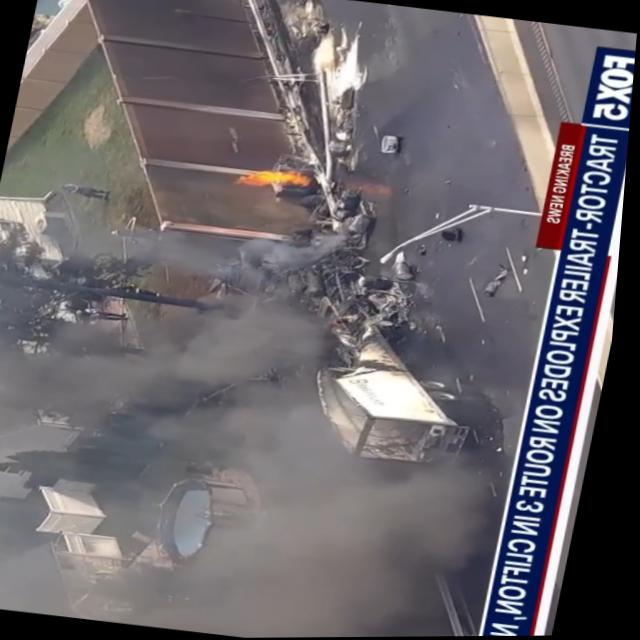Fire: (233, 159, 320, 199)
